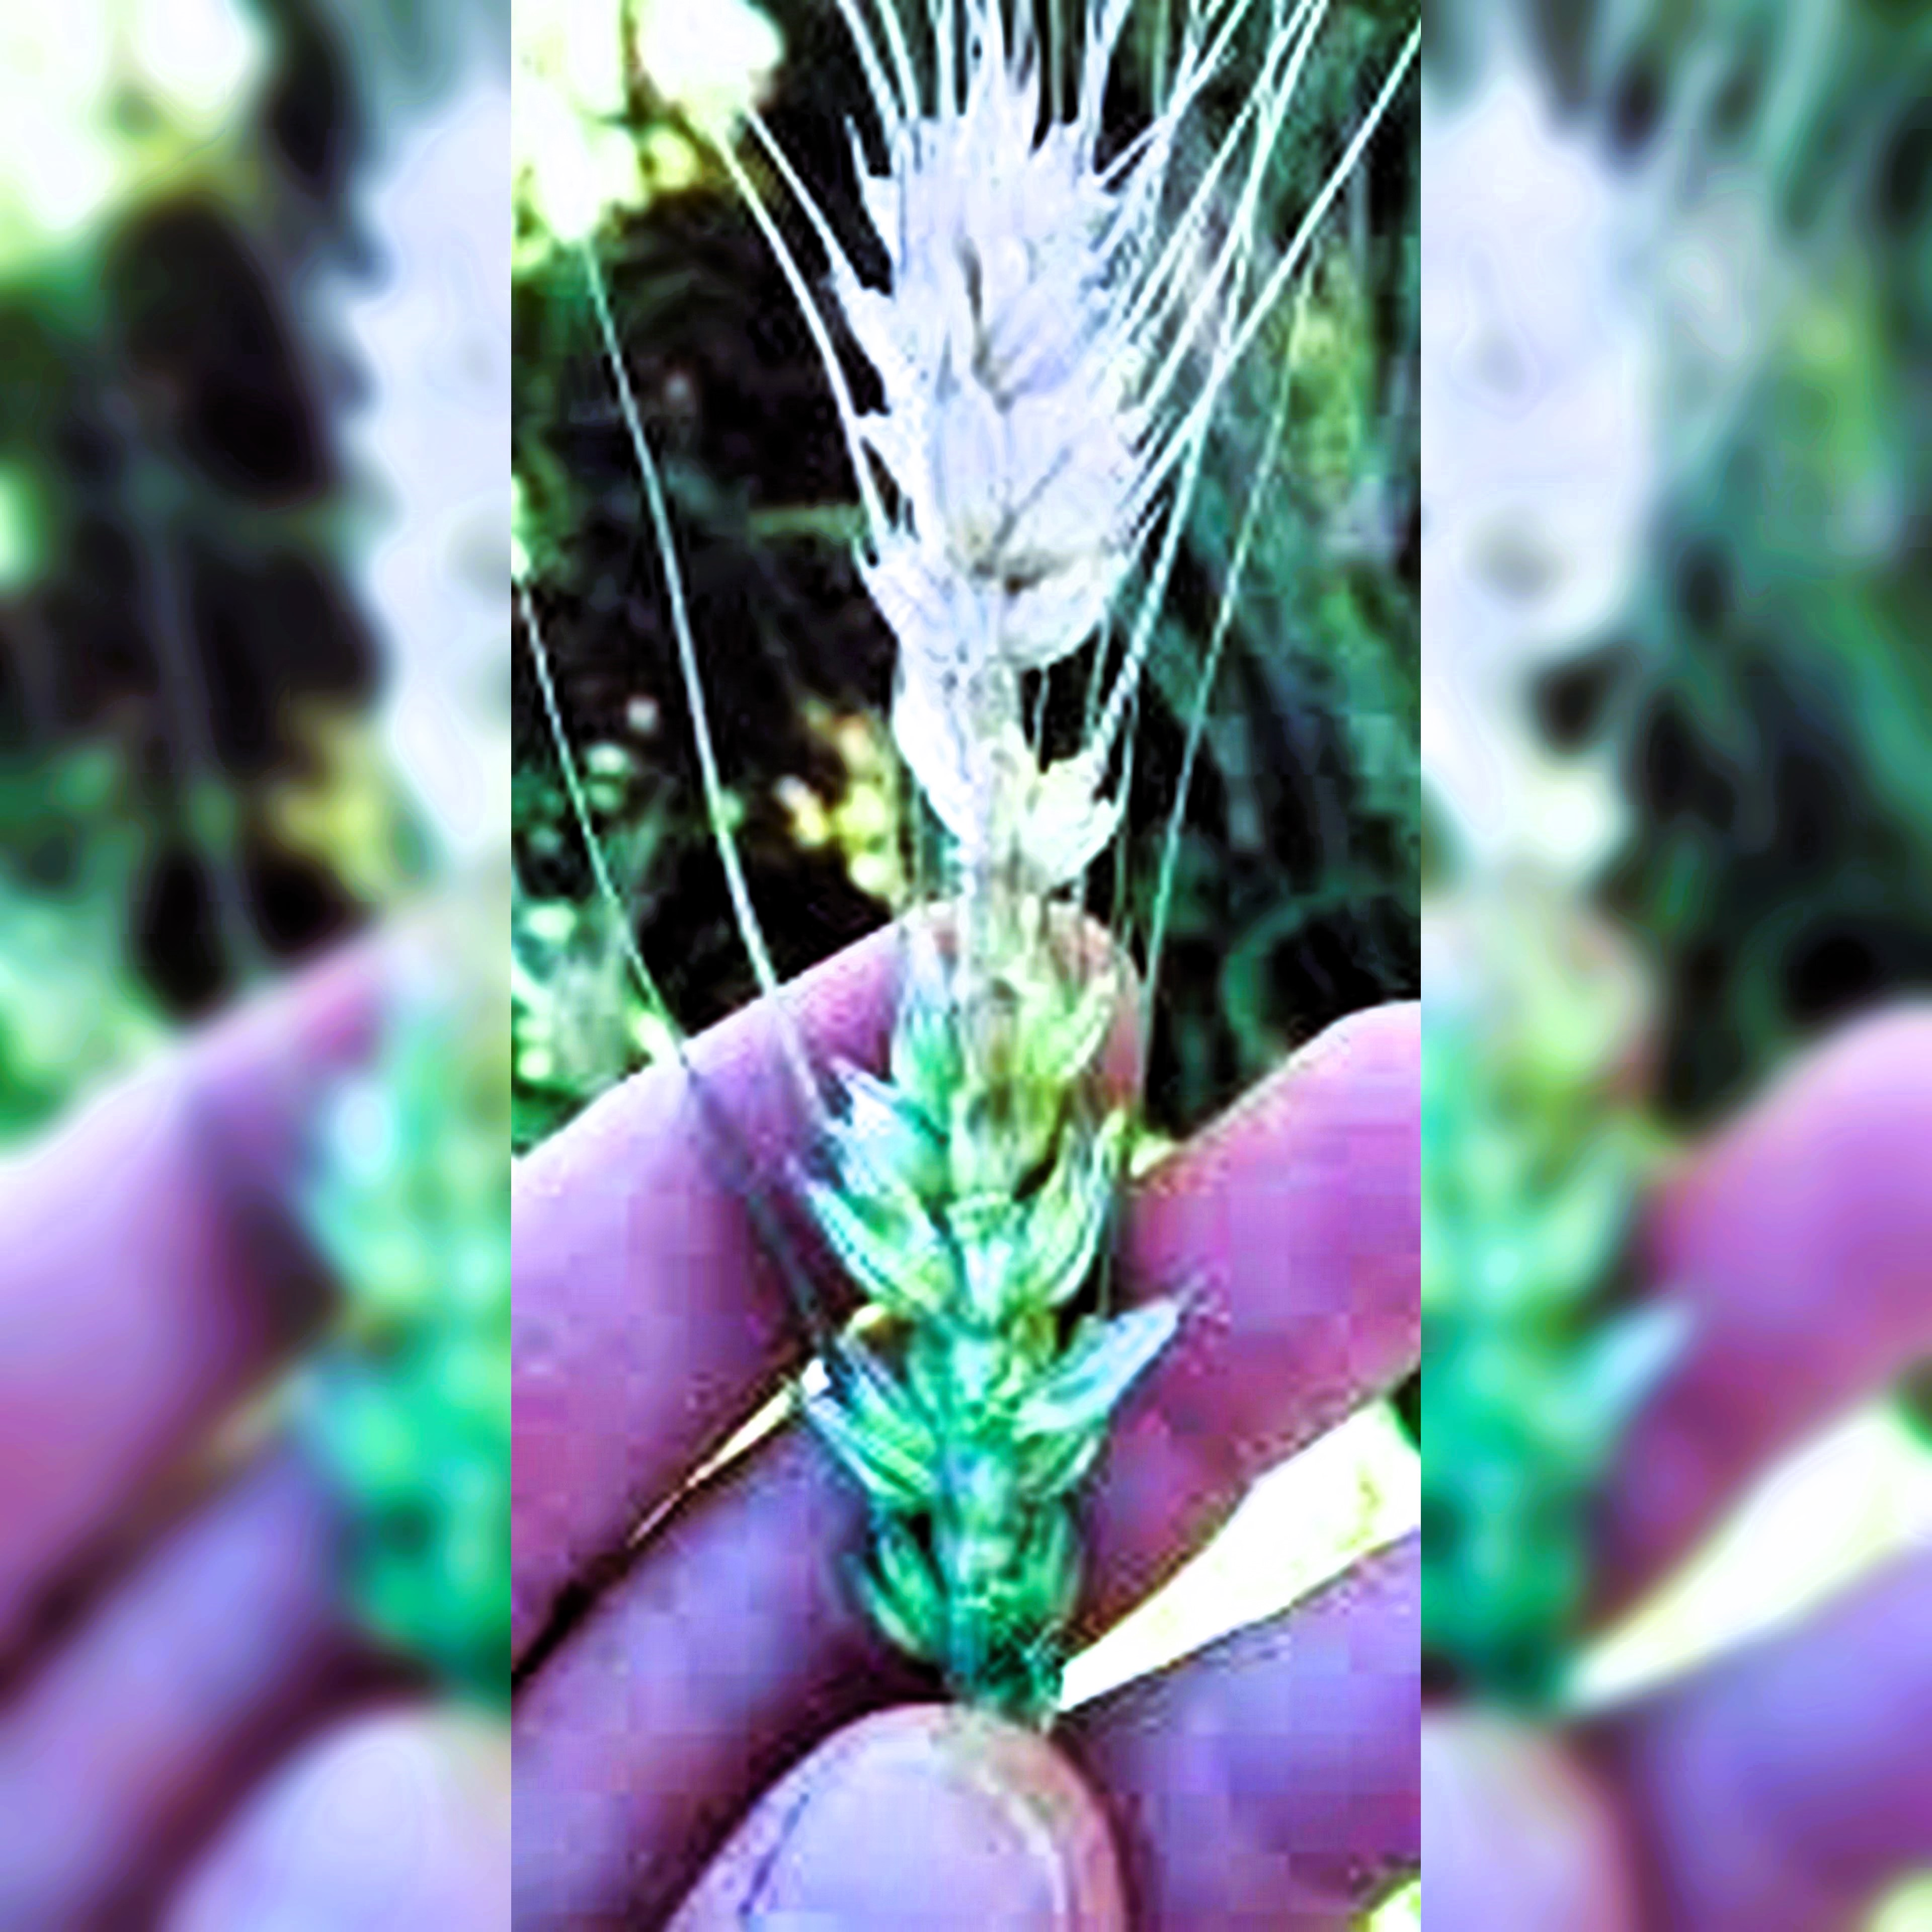Wheat scab: (773, 58, 1162, 1605)
